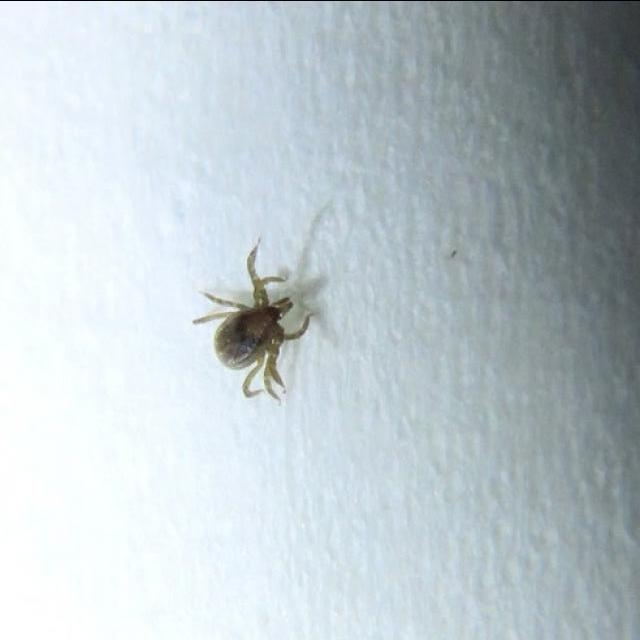Ixodes Ricinus-M: (195, 236, 315, 402)
